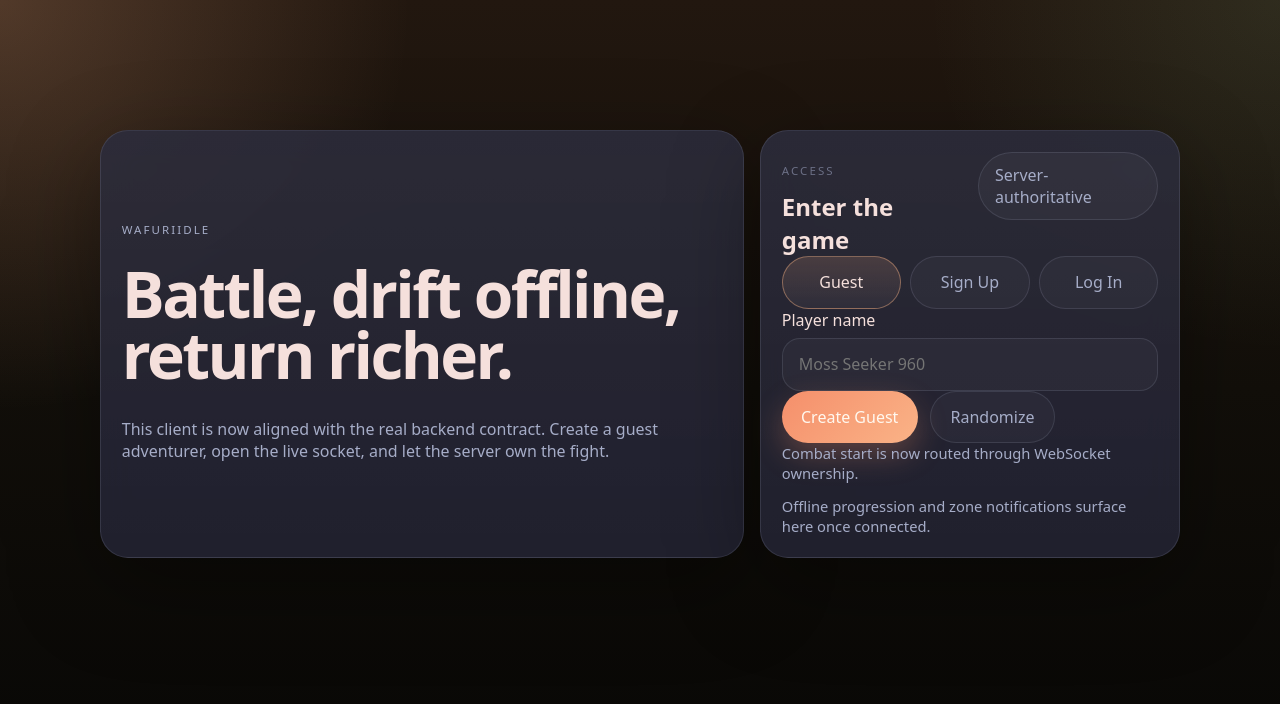
it: CombatScreen › exposes explicit navigation names and keyboard-accessible inventory details
The width and height of the screenshot is (1280, 704).
Type "Scout" into the field labelled "Player name". click: (970, 364)
box: x1=782 y1=338 x2=1158 y2=391
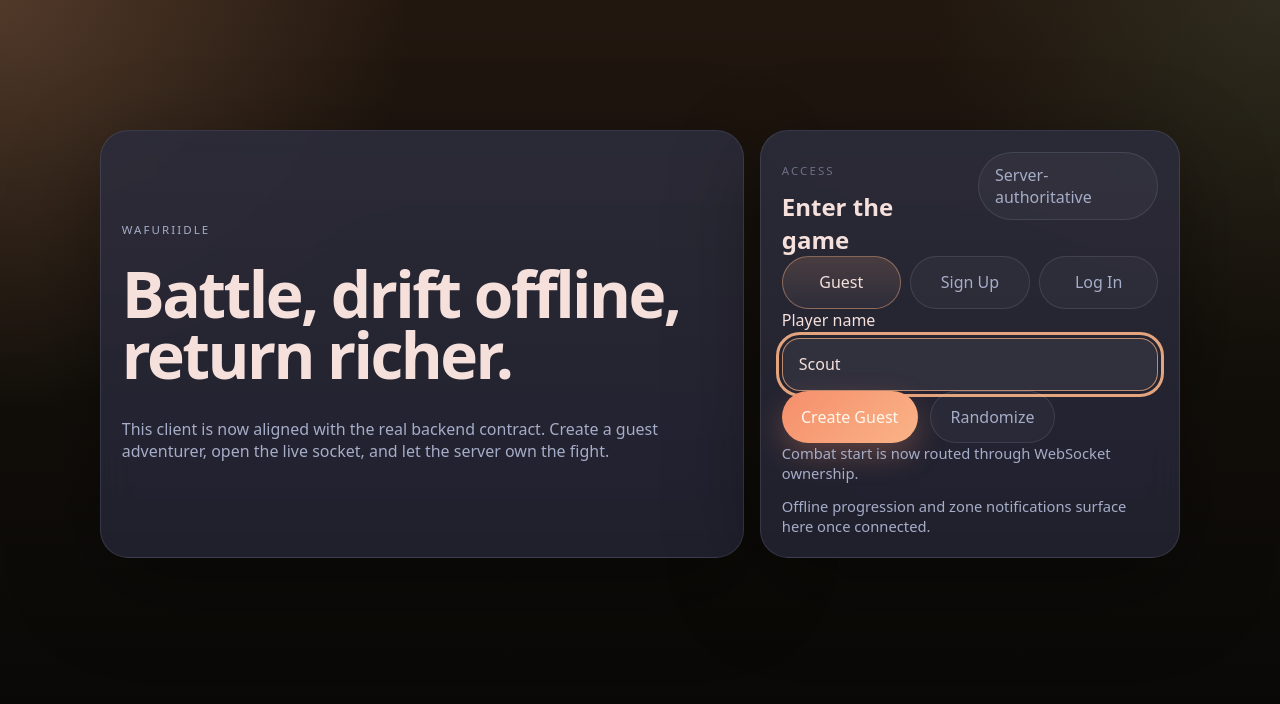
Click the button "Create Guest". click: (850, 417)
box: x1=782 y1=391 x2=918 y2=443
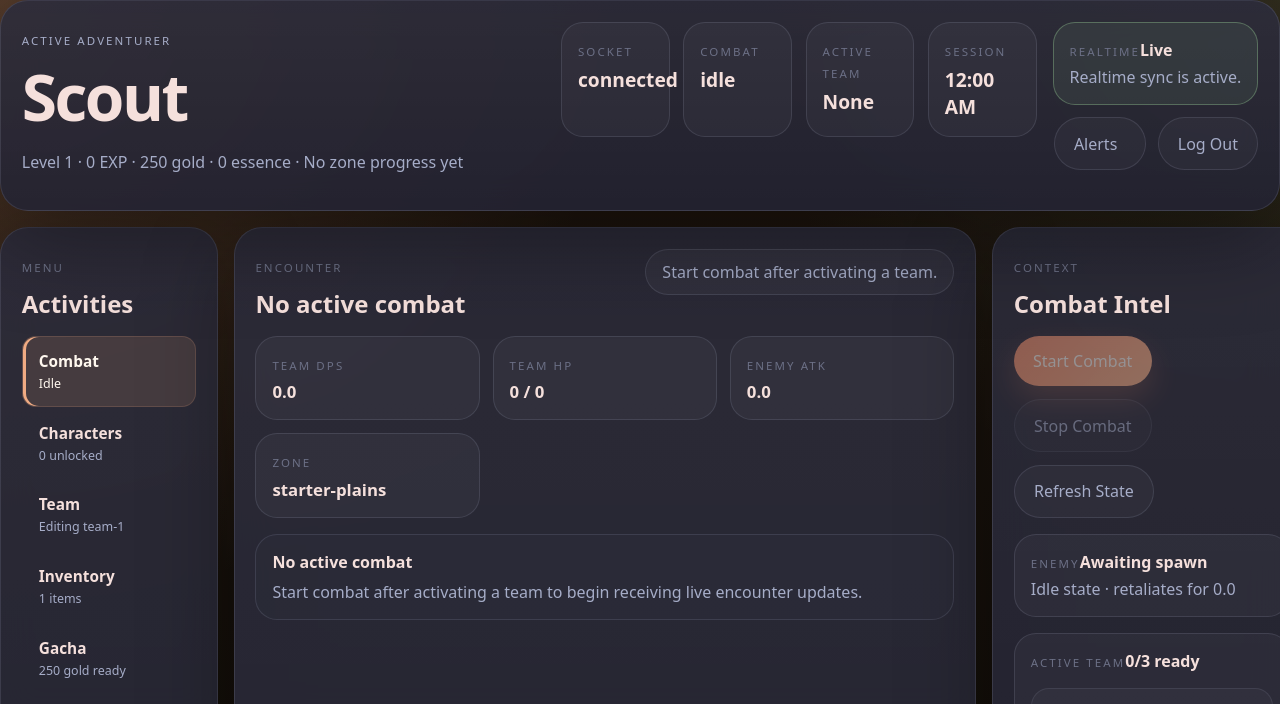
Now the heading "Scout" is shown, box x1=22 y1=53 x2=187 y2=140
Now the button with aria-label "Open combat workspace. Current combat status: Idle." is shown, box x1=22 y1=336 x2=196 y2=407
Click the button with aria-label "Open inventory workspace. 1 items available.". click: (109, 586)
box: x1=22 y1=551 x2=196 y2=622
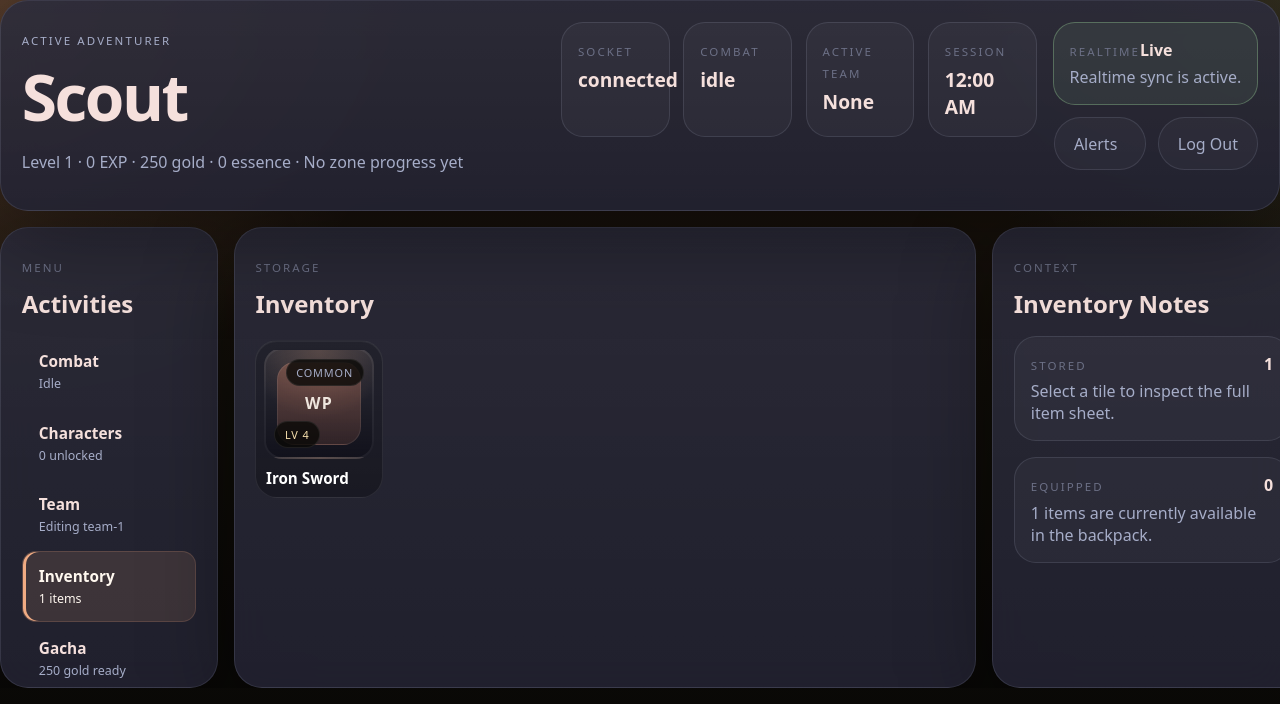
Click the button with aria-label "View Iron Sword". click: (319, 419)
box: x1=255 y1=340 x2=383 y2=498
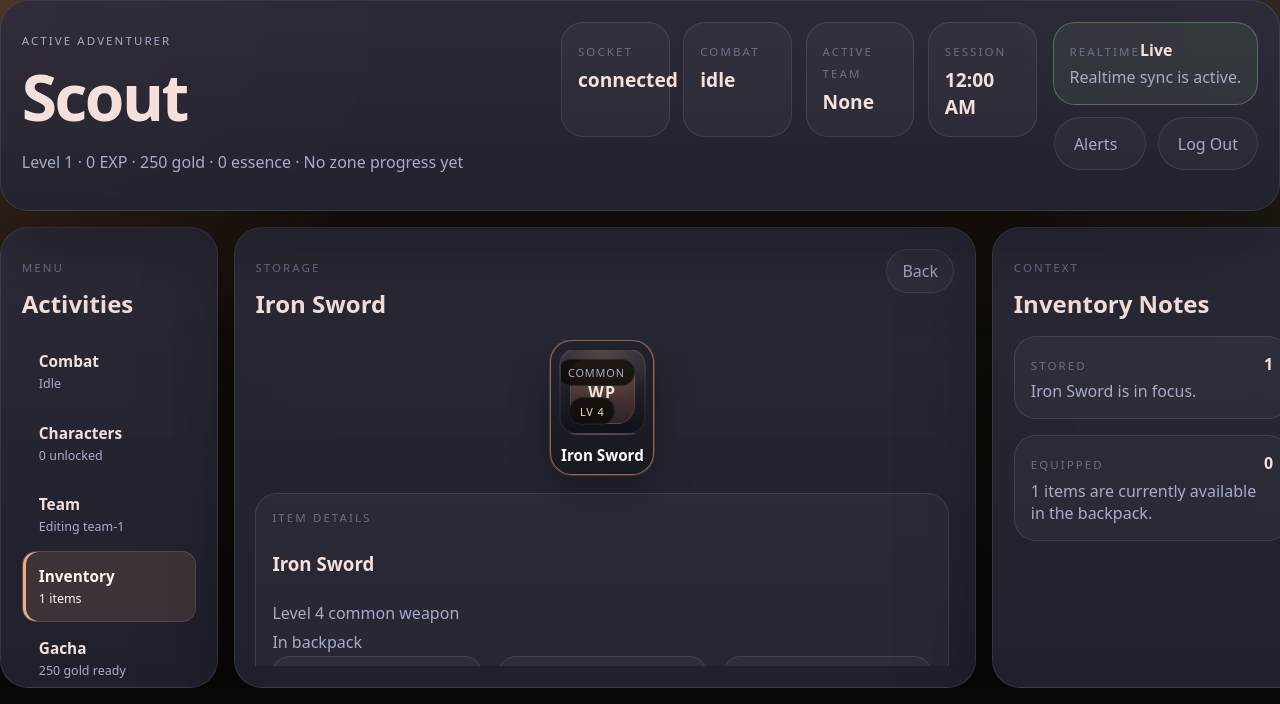
Now the button "Back" is shown, box x1=886 y1=249 x2=954 y2=293
Now the text "Item Details" is shown, box x1=272 y1=510 x2=372 y2=525
Now the heading "Iron Sword" below "Storage" is shown, box x1=255 y1=287 x2=386 y2=320
